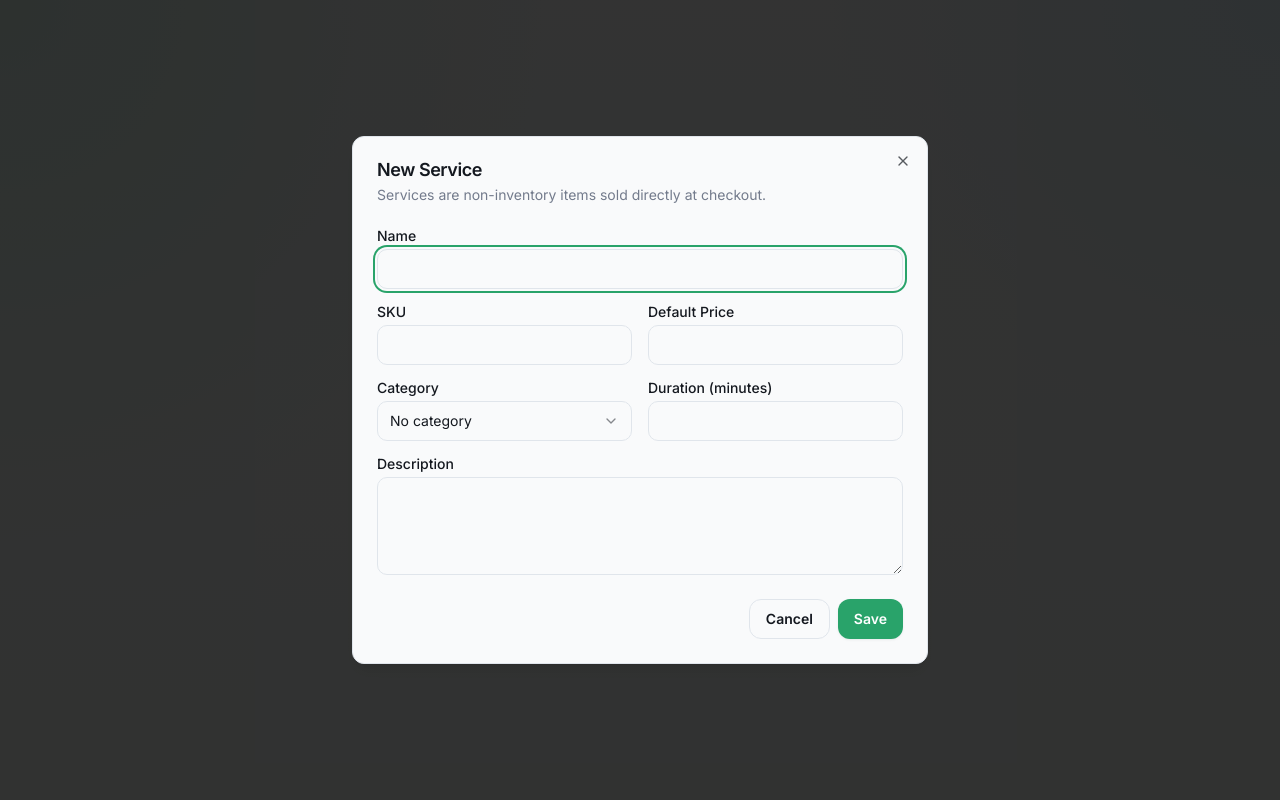
ServiceManagementDialog › blocks saving a new service when the price is zero
Type "Delivery" into the field labelled "Name". click: (640, 269)
box: [377,249,903,289]
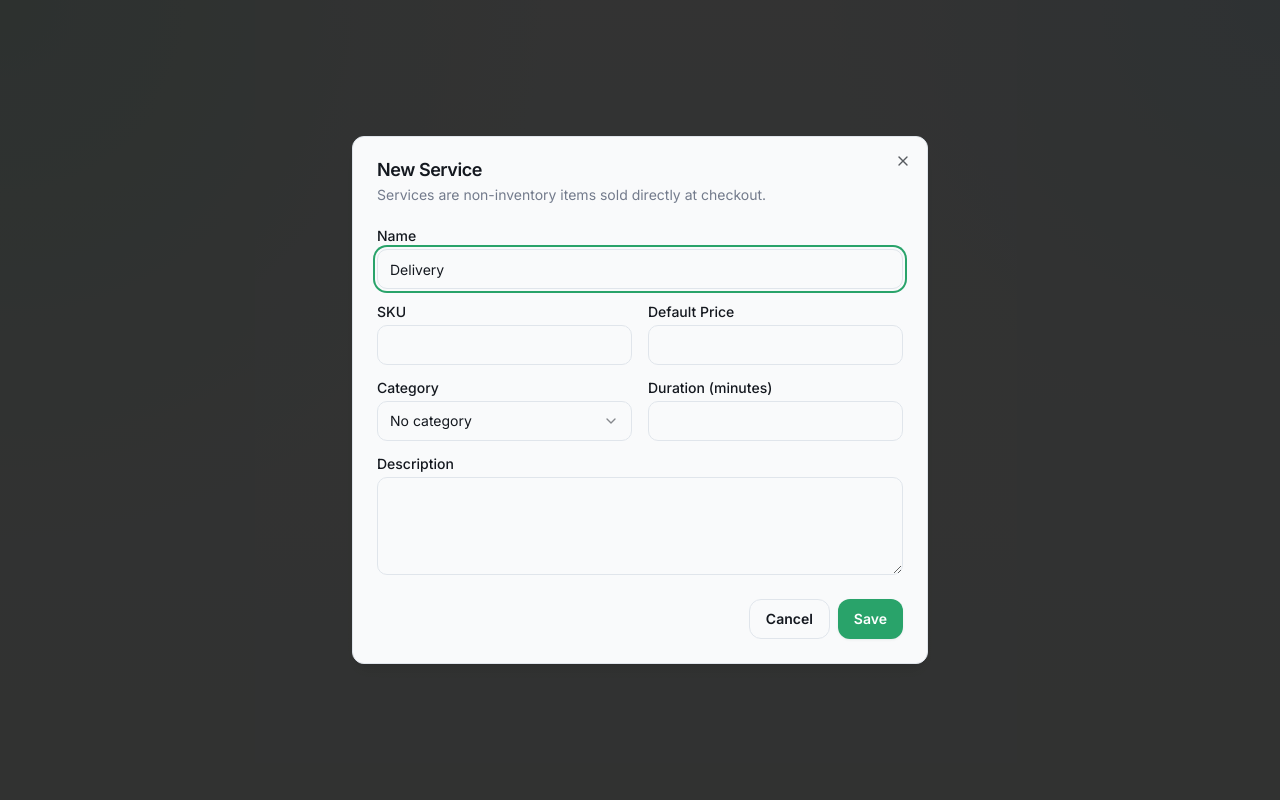
Type "0" into the field labelled "Default Price". click: (776, 345)
box: [648,325,903,365]
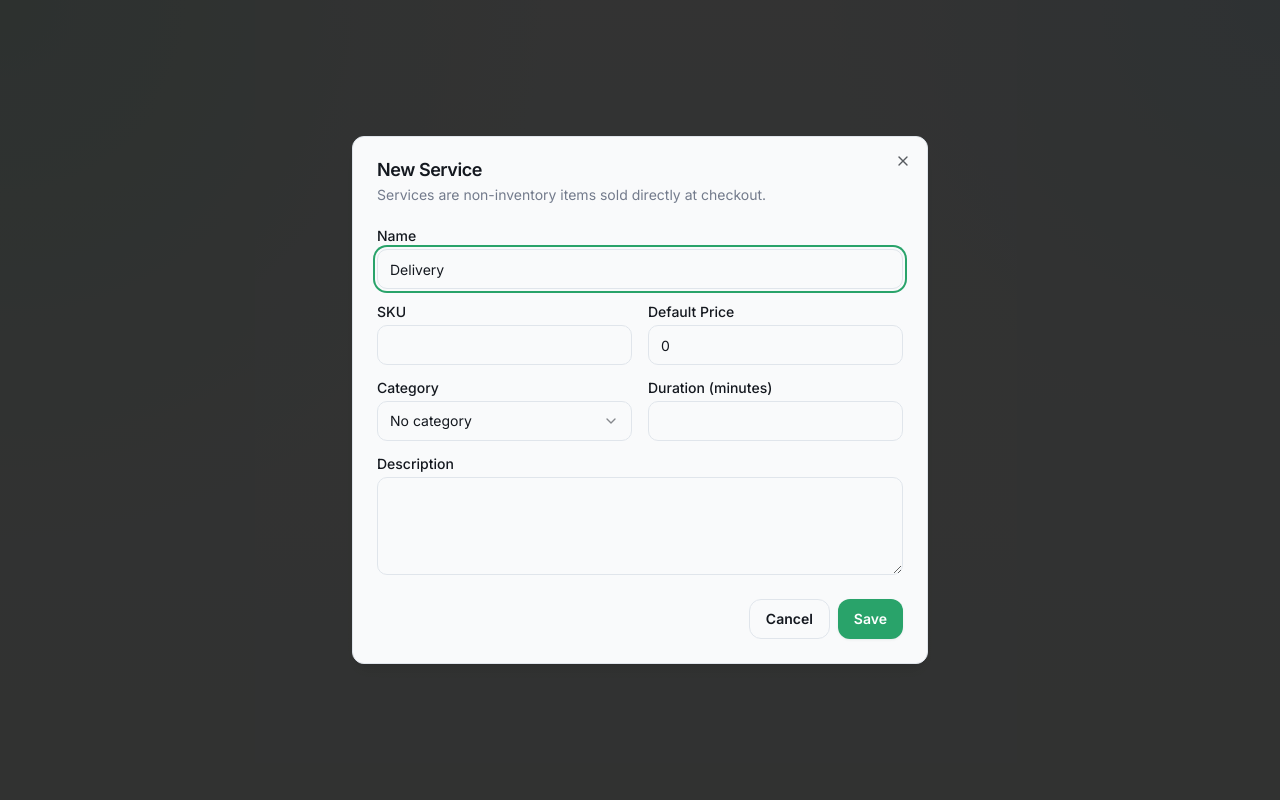
Click the button "Save". click: (870, 619)
box: [838,599,903,639]
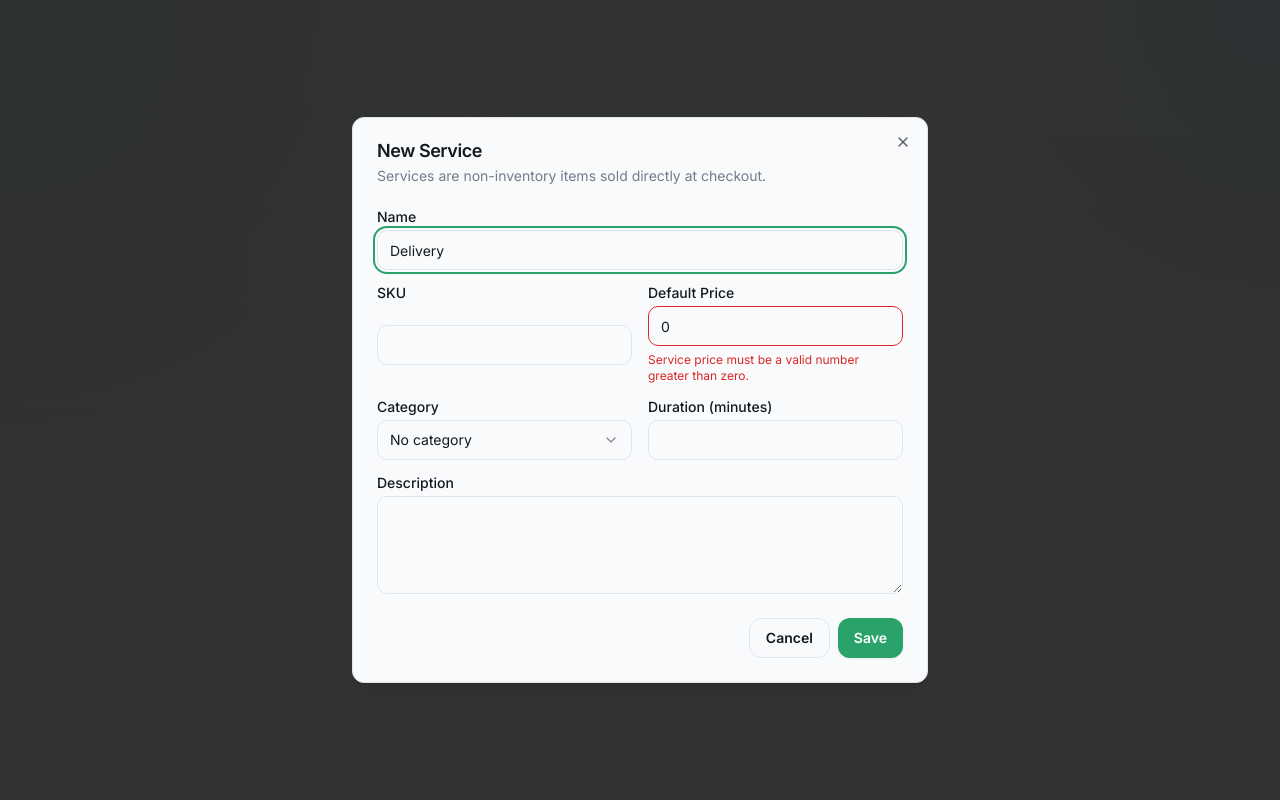
Now the text "Service price must be a valid number greater than zero." is shown, box [648,352,859,383]
